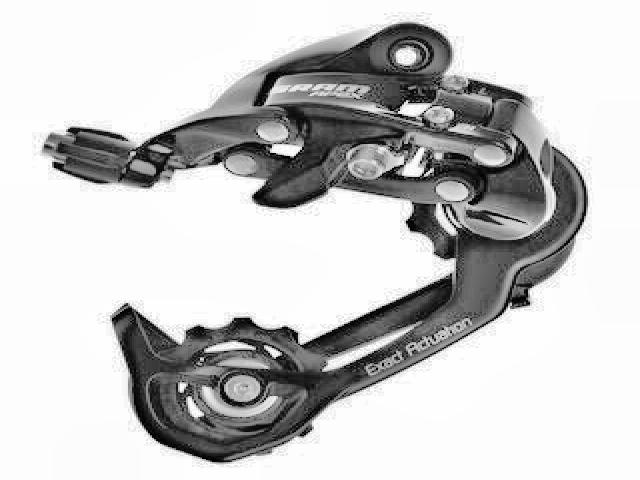rear_derailleur: (40, 22, 589, 468)
